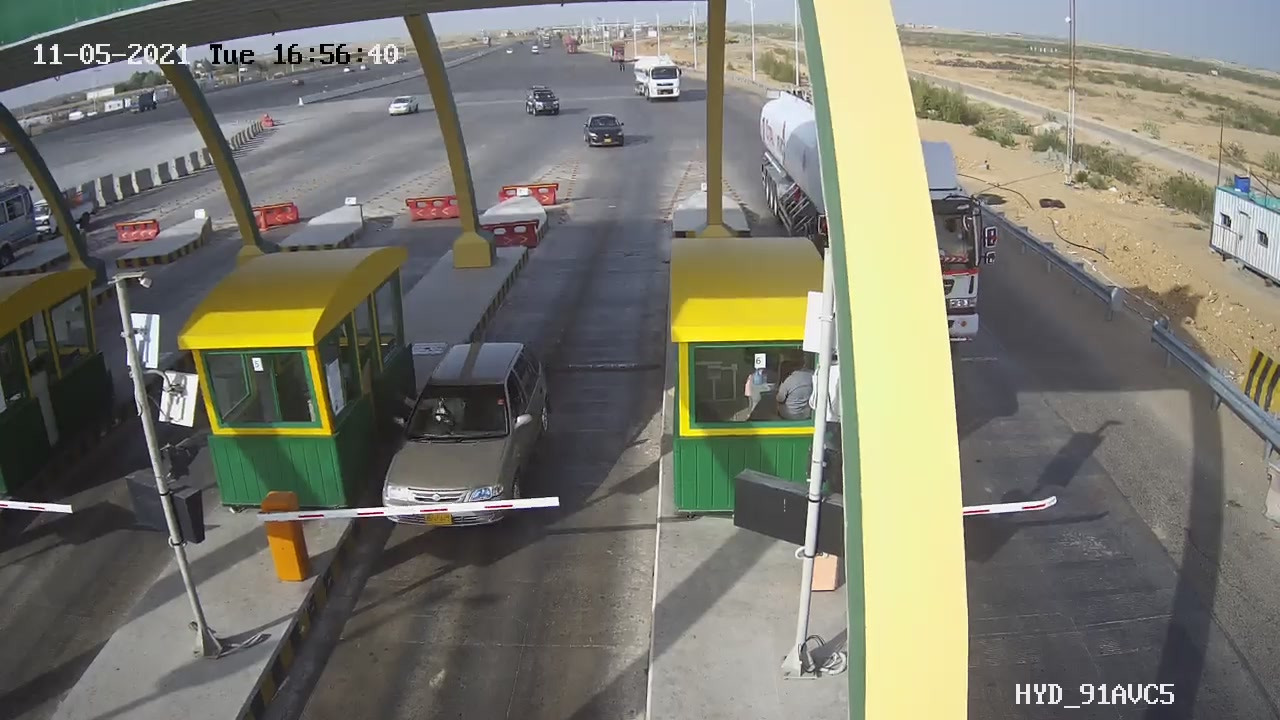F1: (365, 327, 570, 560)
